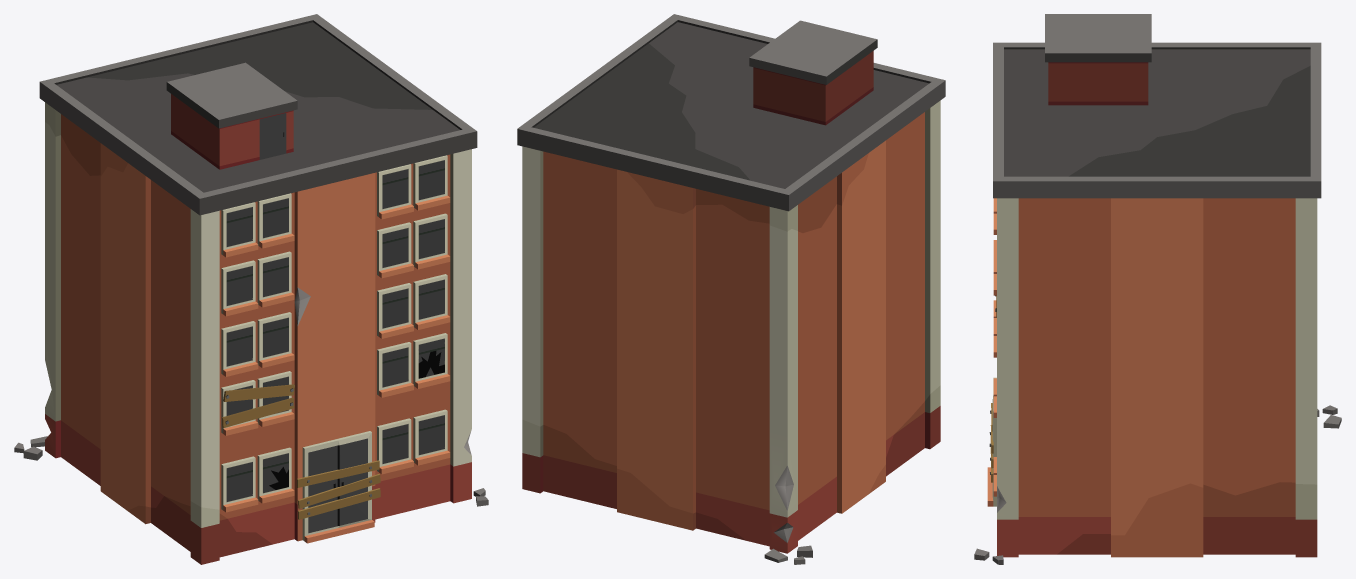
File: SA_Bld_Apartment_Damaged_01.gltf
3 renders of one model, left to right at view 1: azimuth 30°, elevation 25°; view 2: azimuth 150°, elevation 25°; view 3: azimuth 270°, elevation 25°, orthographic. The views are drawn at different scales.
Visible parts, largest first — view 1: SA_Bld_Apartment_Damaged_01; view 2: SA_Bld_Apartment_Damaged_01; view 3: SA_Bld_Apartment_Damaged_01.
Boxes of the visible parts, box(x1,y1,x2,y2) form: SA_Bld_Apartment_Damaged_01: box(14, 14, 488, 564); SA_Bld_Apartment_Damaged_01: box(517, 14, 945, 564); SA_Bld_Apartment_Damaged_01: box(974, 14, 1341, 564).
Size of the model in its own units: 14.79 by 19.06 by 14.8.
1 material, 1 textured.
